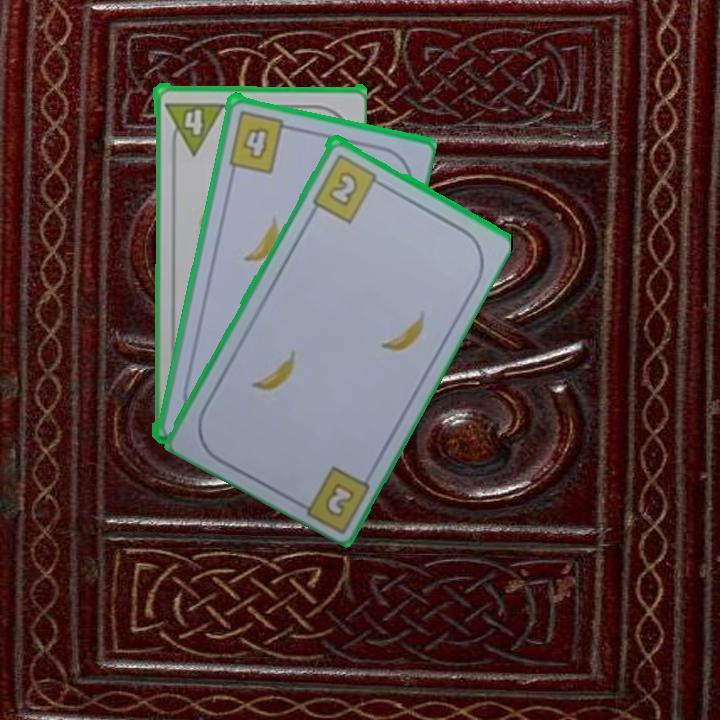2b: (308, 150, 387, 225), (324, 482, 354, 517)
4b: (225, 106, 296, 175)
4p: (160, 98, 225, 156)
